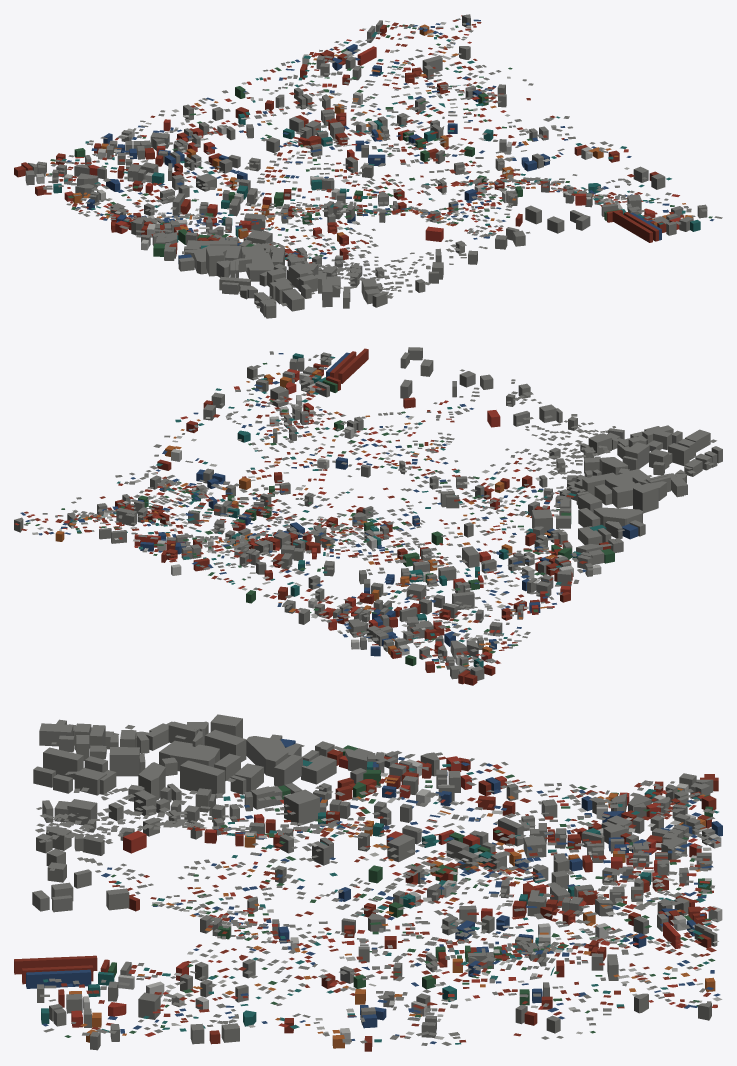
File: far-15-27361-14868.d04dd714.glb
3 views of the same model, one above another, from view 1: azimuth 30°, elevation 25°; view 2: azimuth 150°, elevation 25°; view 3: azimuth 270°, elevation 25° (orthographic). The views are drawn at different scales.
Size of the model in its own units: 1200 by 183 by 1220.
